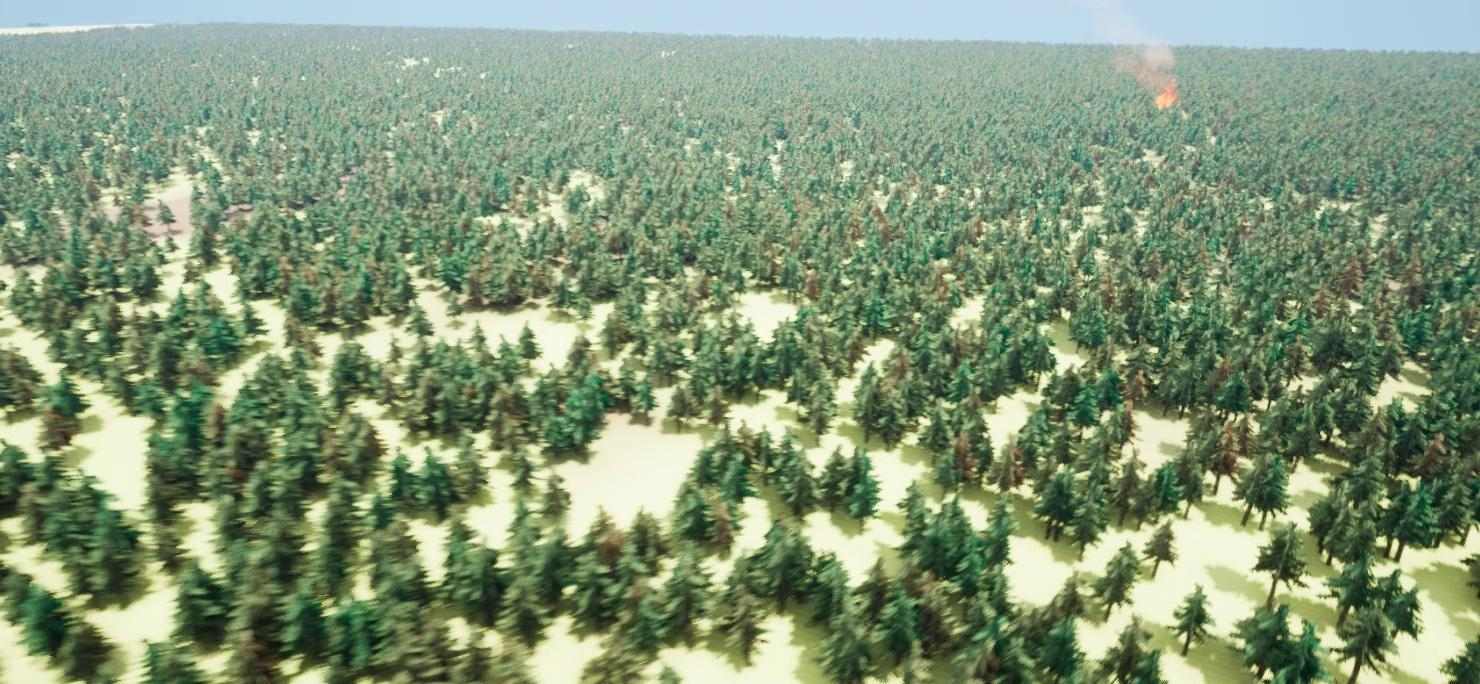fire: (1149, 77, 1189, 116)
smoke: (1089, 3, 1174, 95)
